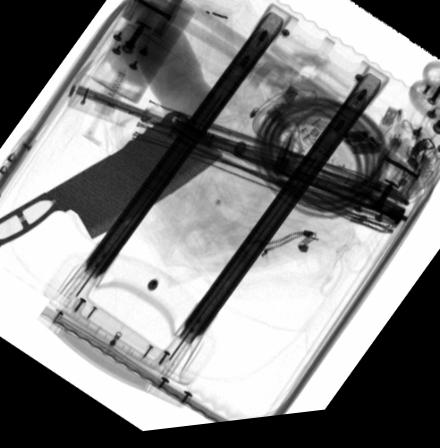Knife: (0, 115, 221, 246)
